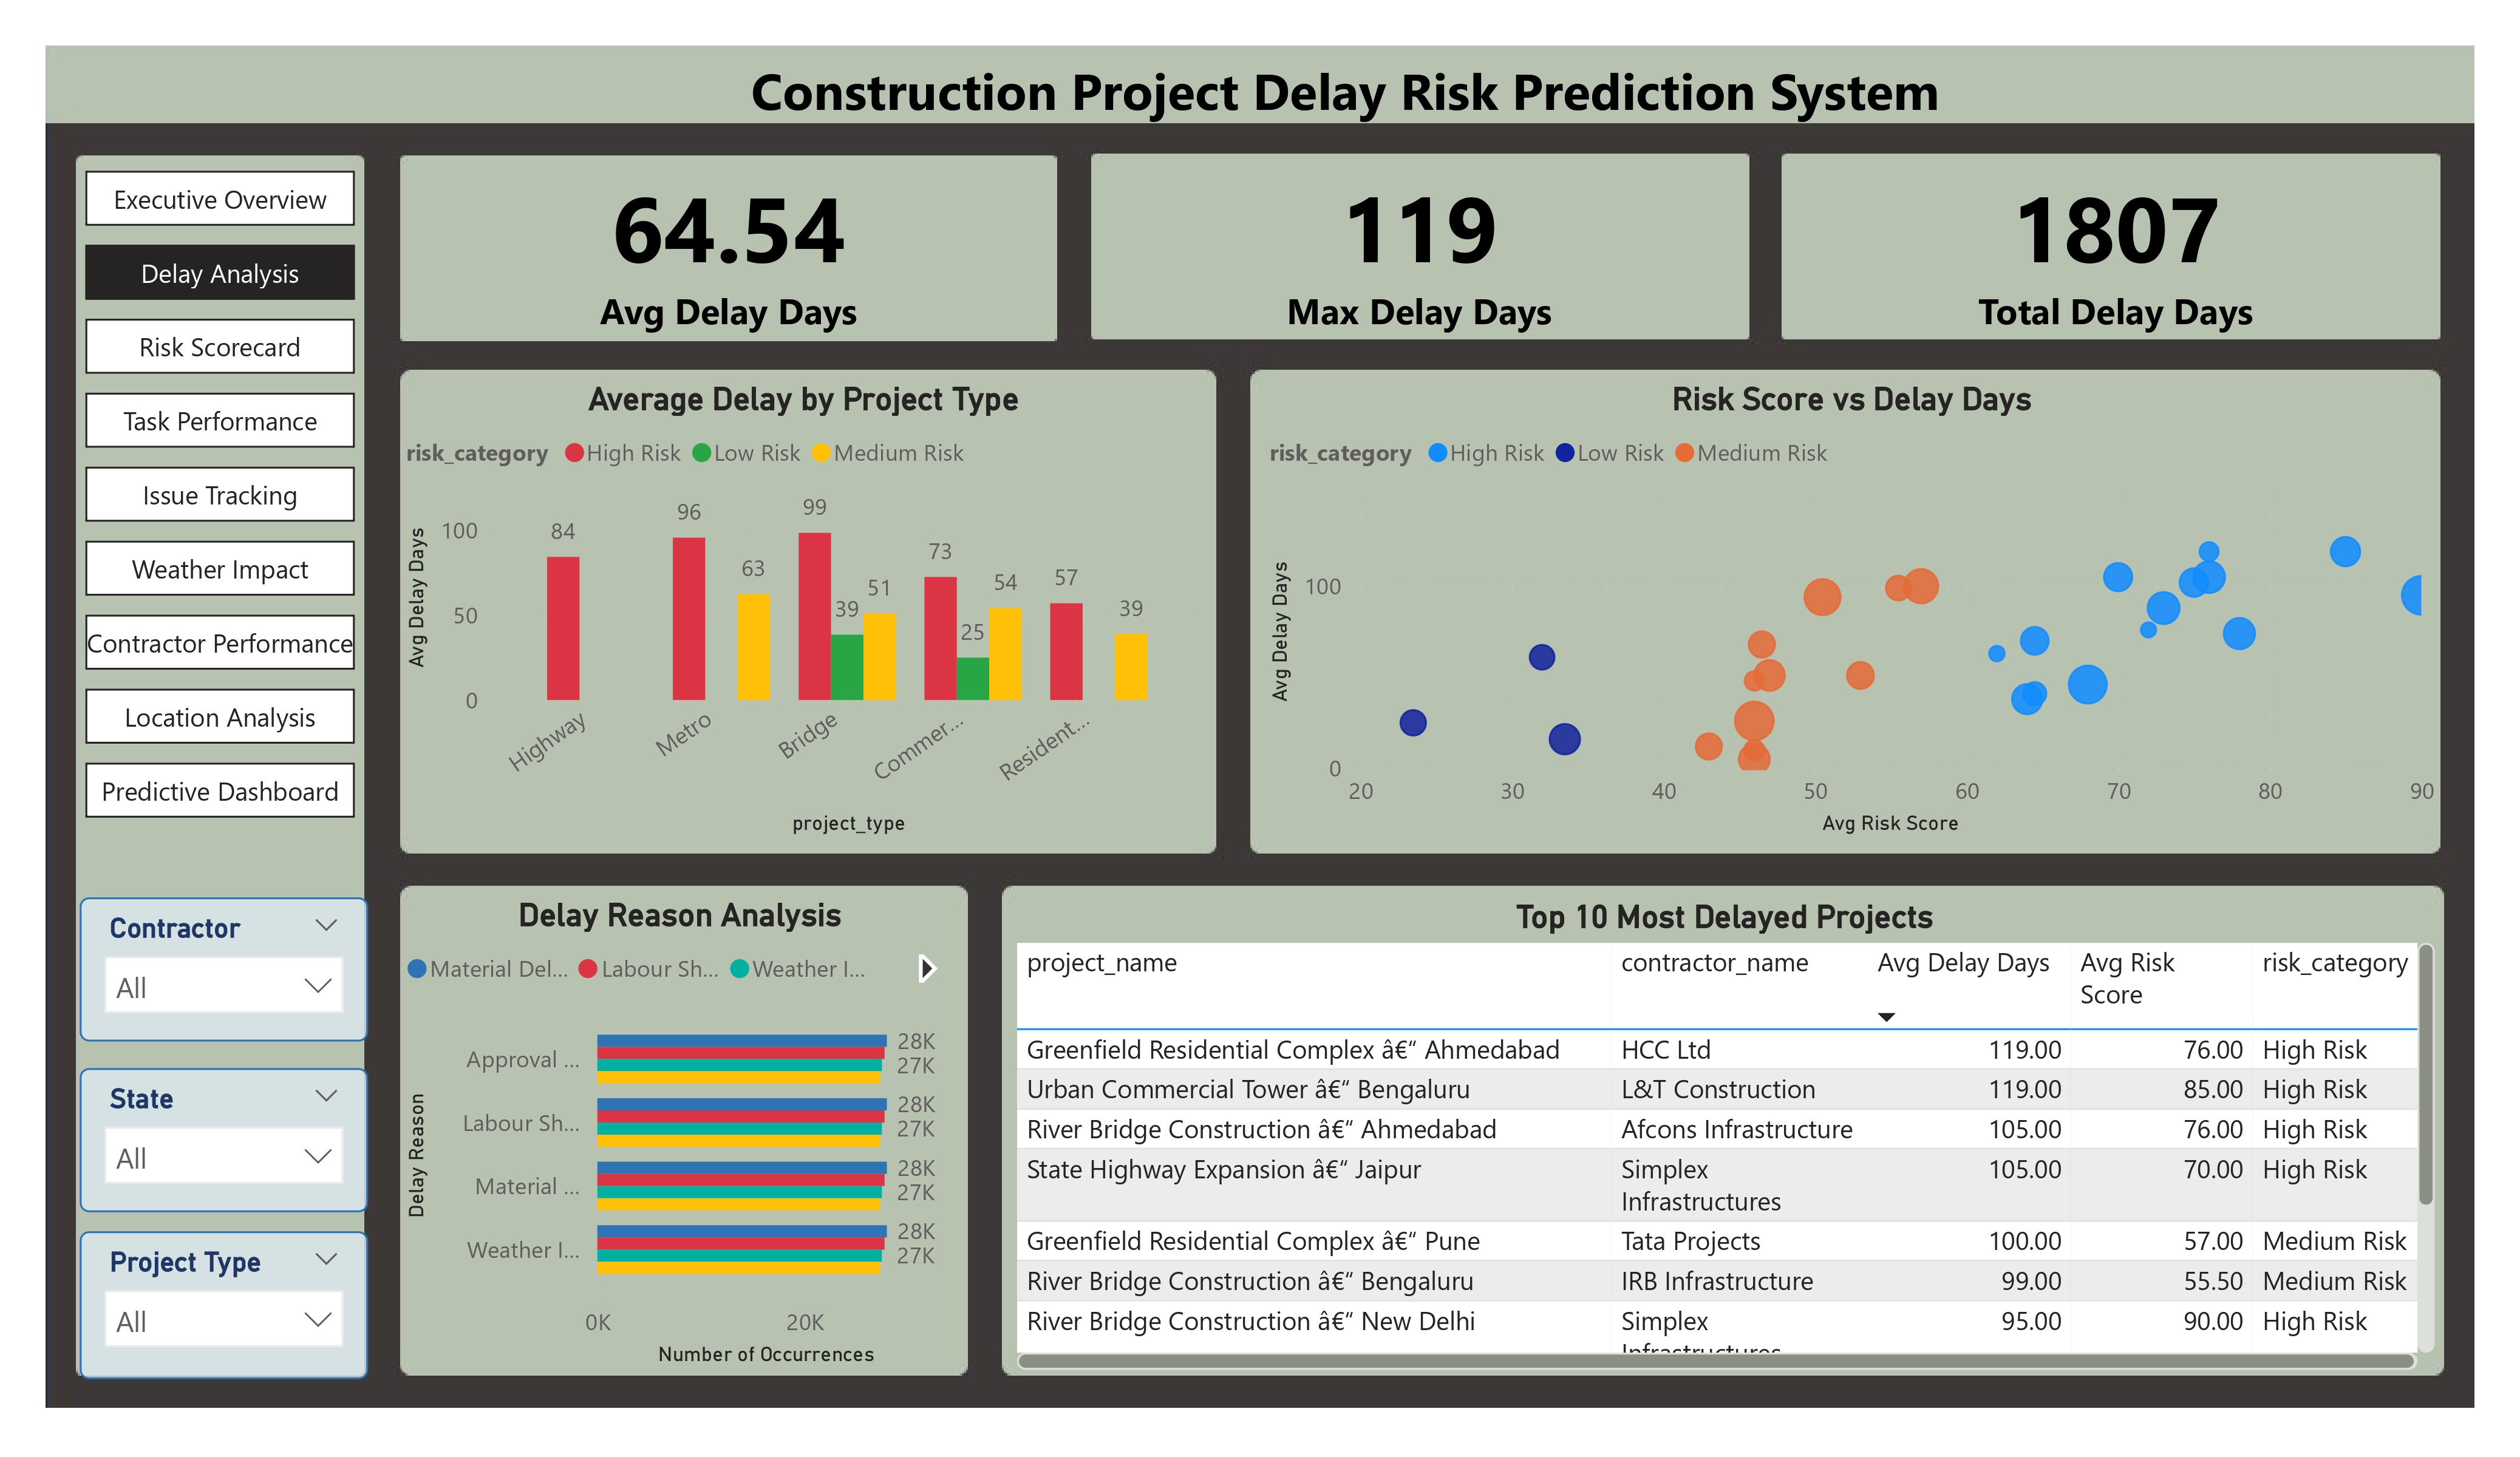

This screenshot's page, from the dashboard's own definition file:
{"tool":"powerbi","page":{"name":"Delay Analysis","canvas":[1280,720],"ordinal":1},"visuals":[{"type":"card","fields":{"Values":["**Measures**.Avg Delay Days"]},"box":[185,52.5,350,107.5],"z":0},{"type":"card","fields":{"Values":["**Measures**.Max Delay Days"]},"box":[547.5,52.5,352.5,107.5],"z":1000},{"type":"card","fields":{"Values":["**Measures**.Total Delay Days"]},"box":[917.5,52.5,346.2,107.5],"z":2000},{"type":"clusteredBarChart","title":"Delay Reason Analysis","fields":{"Category":["dimdelayreasons.reason_description"],"Y":["**Measures**.Material Delays","**Measures**.Labour Shortages","**Measures**.Weather Impacts","**Measures**.Approval Delays"]},"box":[185,447.5,298.8,253.8],"z":3000},{"type":"scatterChart","title":"Risk Score vs Delay Days","fields":{"X":["**Measures**.Avg Risk Score"],"Y":["**Measures**.Avg Delay Days"],"Size":["Sum(factprojectmetrics.project_value_cr)"],"Series":["factprojectmetrics.risk_category"],"Category":["factprojectmetrics.project_name"]},"box":[640,176.2,623.8,245],"z":4000},{"type":"clusteredColumnChart","title":"Average Delay by Project Type","fields":{"Category":["factprojectmetrics.project_type"],"Y":["**Measures**.Avg Delay Days"],"Series":["factprojectmetrics.risk_category"]},"box":[185,176.2,428.8,245],"z":5000},{"type":"tableEx","title":"Top 10 Most Delayed Projects","fields":{"Values":["factprojectmetrics.project_name","factprojectmetrics.contractor_name","**Measures**.Avg Delay Days","**Measures**.Avg Risk Score","factprojectmetrics.risk_category"]},"box":[506.2,448.8,757.5,253.8],"z":6000},{"type":"slicer","fields":{"Values":["factprojectmetrics.contractor_name"]},"box":[17.5,448.8,152.5,76.2],"z":7000},{"type":"slicer","fields":{"Values":["factprojectmetrics.state"]},"box":[17.5,538.8,152.5,76.2],"z":8000},{"type":"slicer","fields":{"Values":["factprojectmetrics.project_type"]},"box":[17.5,625,152.5,77.5],"z":9000},{"type":"pageNavigator","box":[21.2,66.2,141.2,343.8],"z":10000},{"type":"textbox","box":[366.7,0,656,56],"z":10001}]}

Visuals, with their boxes on the page's 1280x720 design canvas (x1, y1, x2, y2). These are canvas units, not pixel positions in the 2520x1457 screenshot, which may show the page scaled, cropped or inside an application window:
card - **Measures**.Avg Delay Days: 185, 52, 535, 160
card - **Measures**.Max Delay Days: 548, 52, 900, 160
card - **Measures**.Total Delay Days: 918, 52, 1264, 160
"Delay Reason Analysis" clusteredBarChart: 185, 448, 484, 701
"Risk Score vs Delay Days" scatterChart: 640, 176, 1264, 421
"Average Delay by Project Type" clusteredColumnChart: 185, 176, 614, 421
"Top 10 Most Delayed Projects" tableEx: 506, 449, 1264, 703
slicer - factprojectmetrics.contractor_name: 18, 449, 170, 525
slicer - factprojectmetrics.state: 18, 539, 170, 615
slicer - factprojectmetrics.project_type: 18, 625, 170, 702
pageNavigator: 21, 66, 162, 410
textbox: 367, 0, 1023, 56
